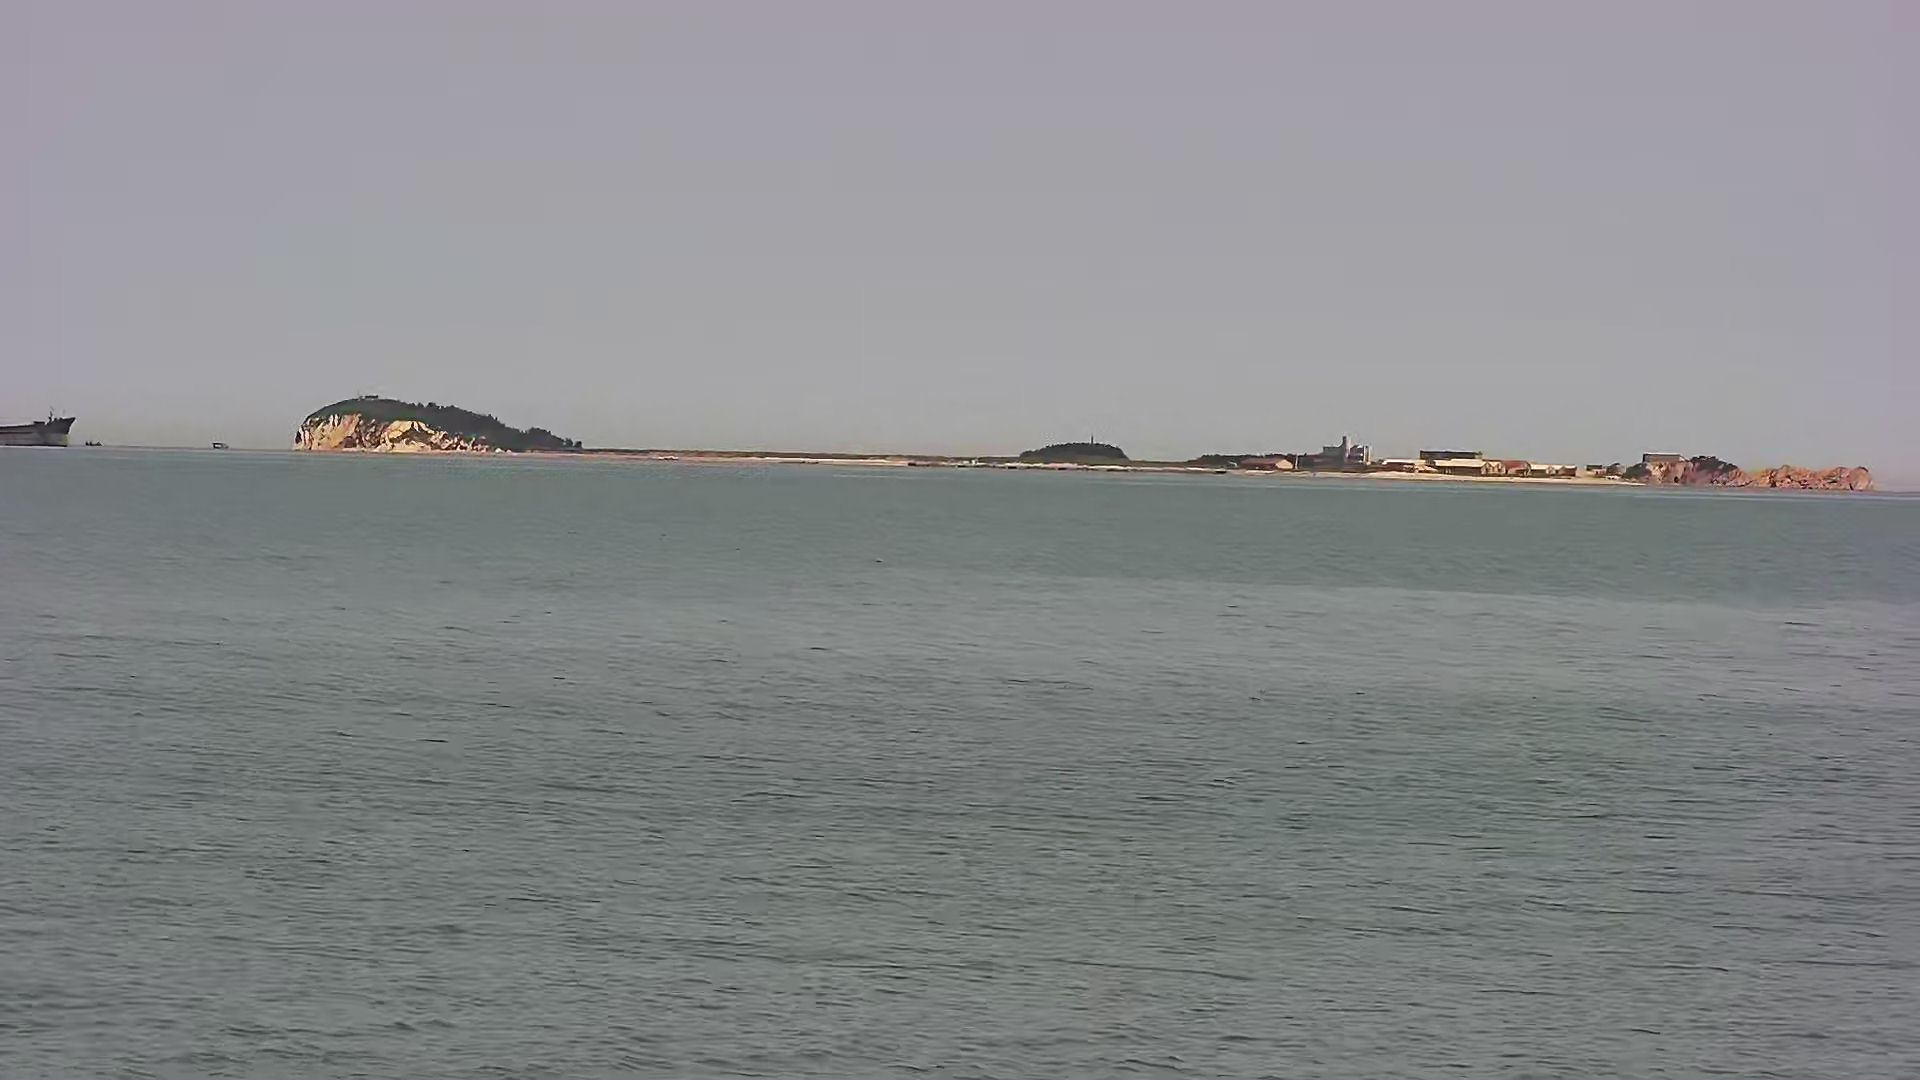rock: (295, 389, 607, 458)
